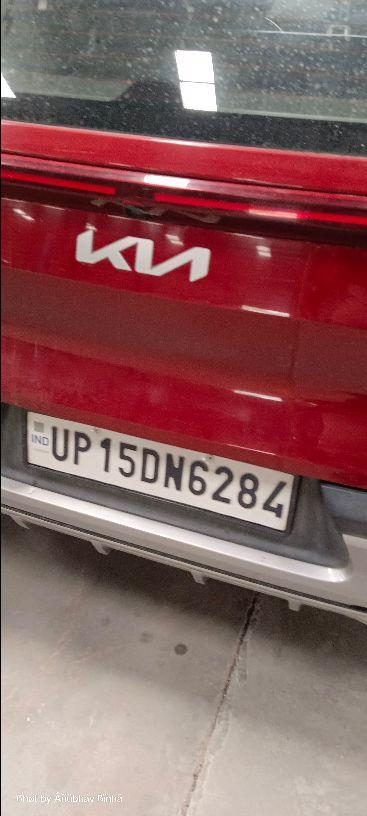license_plate: (24, 408, 301, 535)
